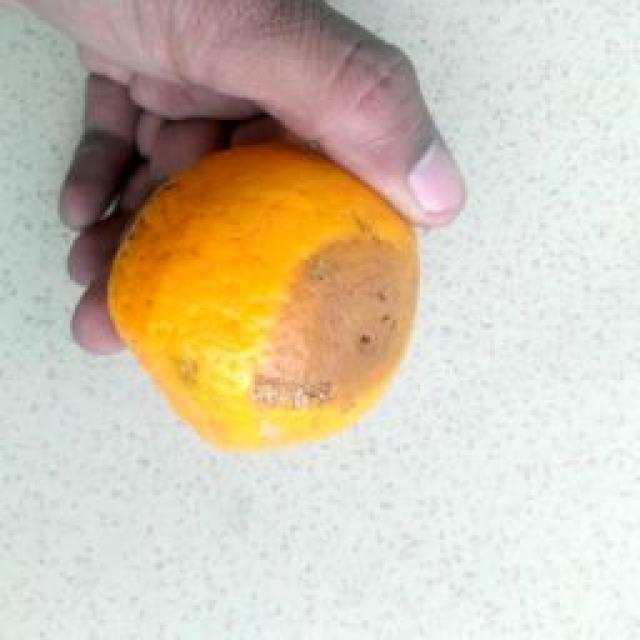Bad_Orange: (109, 144, 418, 448)
